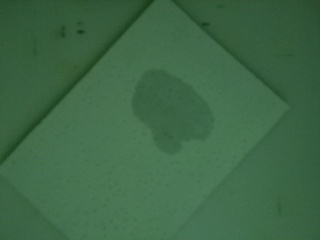Water_detected: (148, 76, 206, 137)
